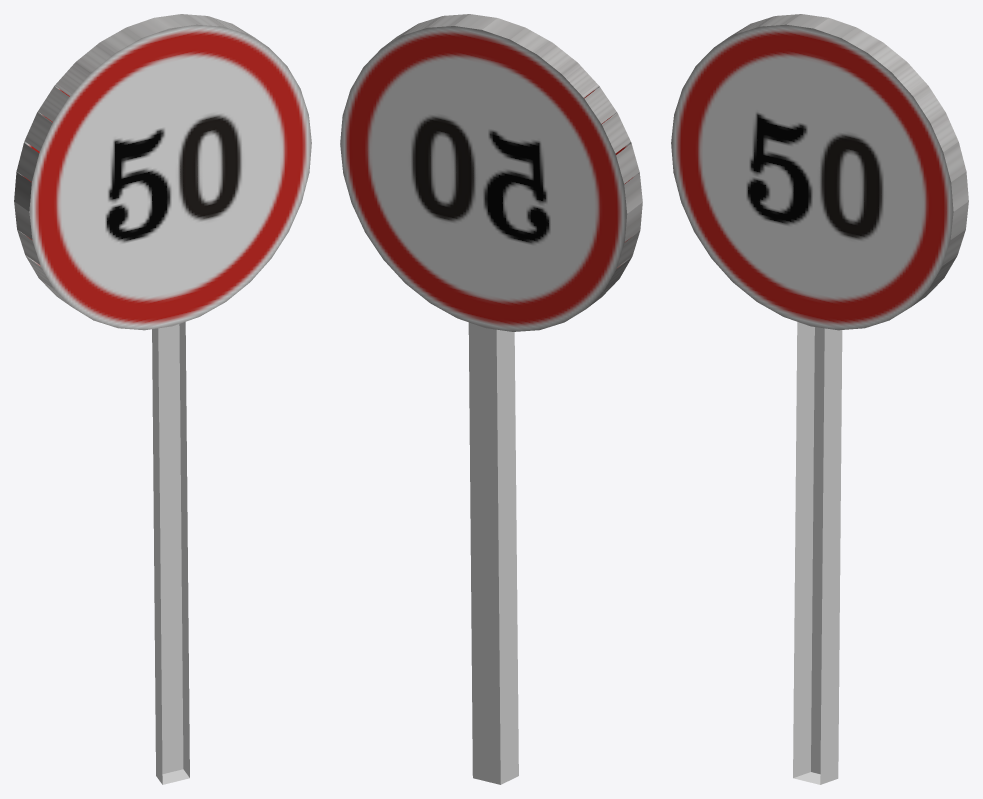
The picture shows the model from 3 angles, left to right: view 1: azimuth 30°, elevation 25°; view 2: azimuth 150°, elevation 25°; view 3: azimuth 330°, elevation 25°; orthographic projection.
Parts seen in each view (by area): view 1: Cycle, Xui; view 2: Cycle, Xui; view 3: Cycle, Xui.
Part boxes in pixels (x1=…): Cycle: x1=14, y1=14, x2=311, y2=330; Xui: x1=152, y1=322, x2=189, y2=784; Cycle: x1=340, y1=14, x2=642, y2=331; Xui: x1=468, y1=322, x2=518, y2=784; Cycle: x1=671, y1=14, x2=968, y2=330; Xui: x1=793, y1=322, x2=842, y2=784.
Size of the model in its own units: 0.2554 by 0.0352 by 0.6471.
1 material, 1 textured.
